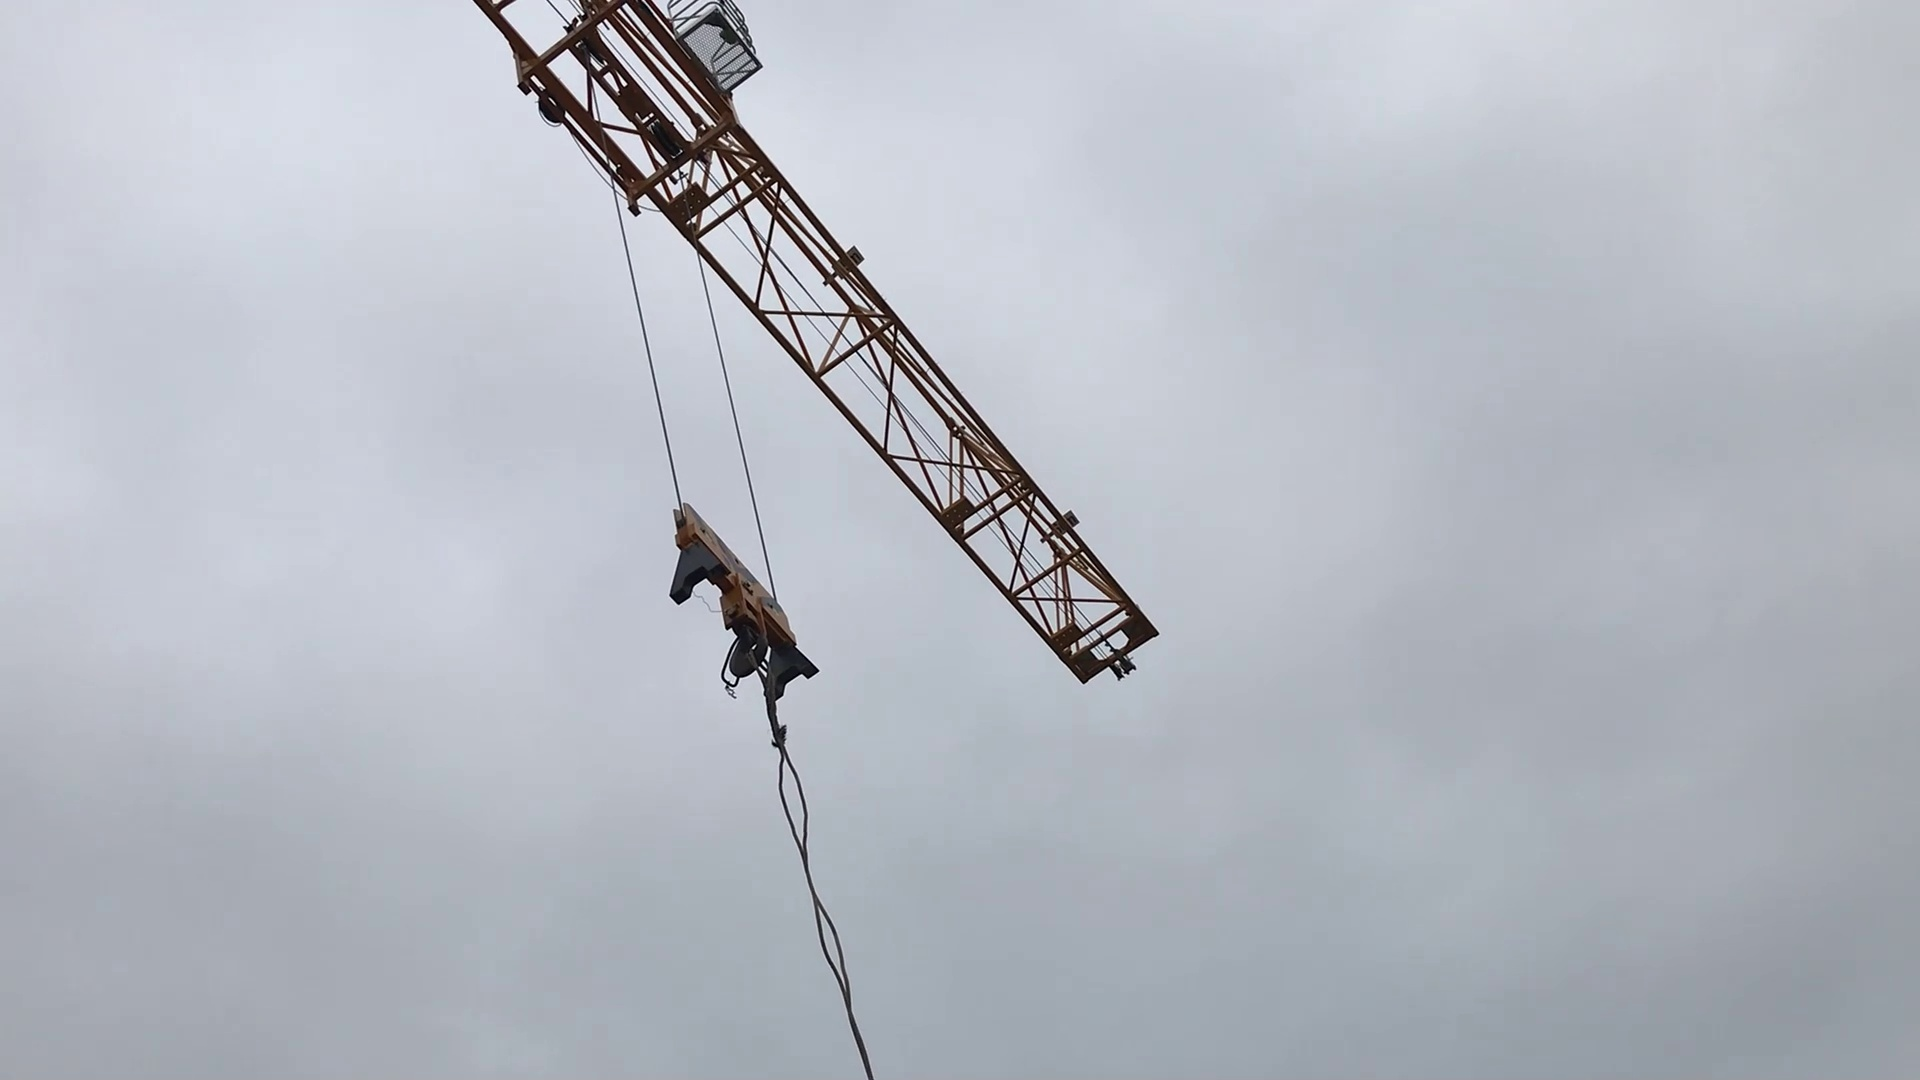hook: (625, 481, 825, 735)
